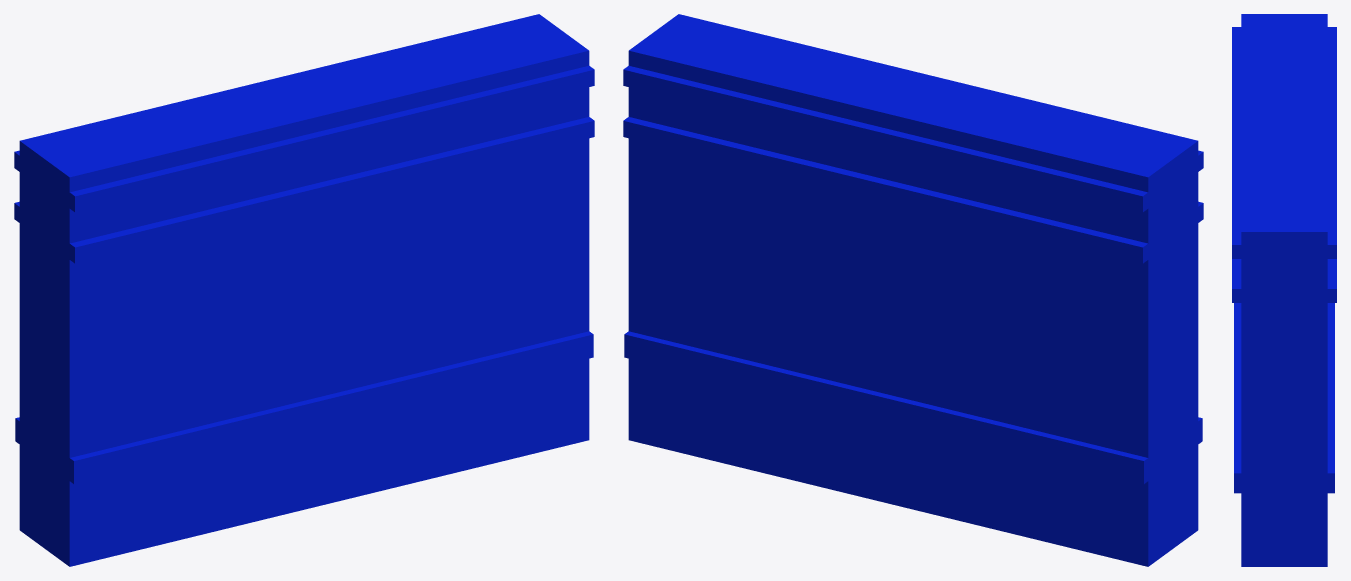
Rendered from MDL_E_TempleWall_01.fbx.
The picture shows the model from 3 angles, left to right: view 1: azimuth 30°, elevation 25°; view 2: azimuth 150°, elevation 25°; view 3: azimuth 270°, elevation 25°; orthographic projection. The views are drawn at different scales.
Parts seen in each view (by area): view 1: Cube.042; view 2: Cube.042; view 3: Cube.042.
Boxes of the visible parts, x1,y1,x2,y2 form: Cube.042: [14, 14, 594, 566]; Cube.042: [623, 14, 1203, 566]; Cube.042: [1232, 14, 1336, 566].
Bounding box in the file's own units: 800 × 573 × 162.
